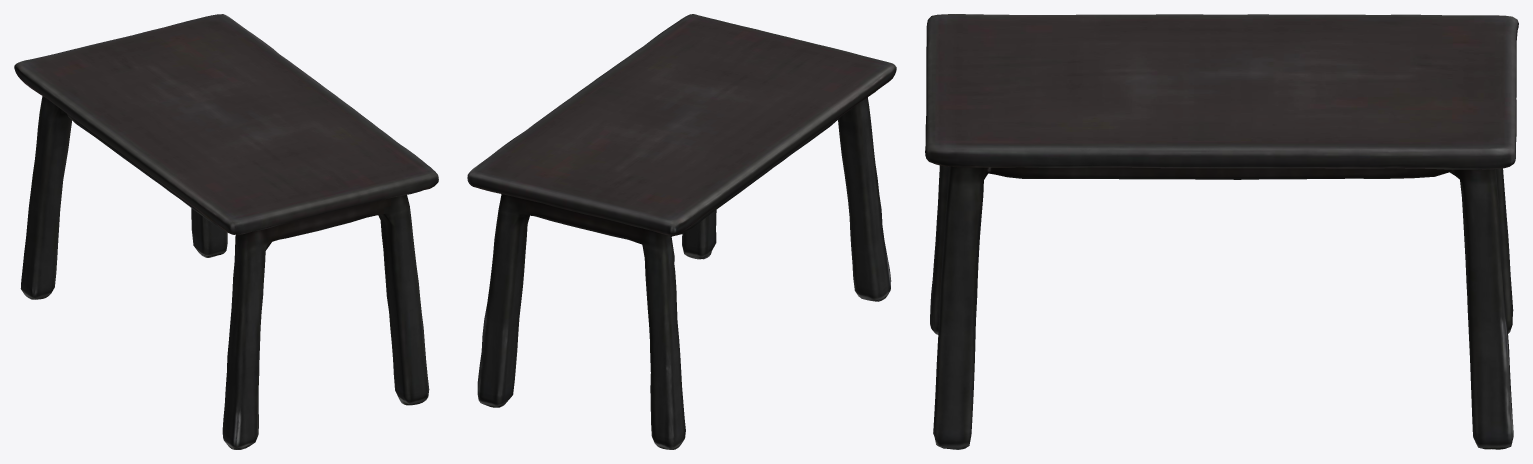
File: table.fbx
The picture shows the model from 3 angles, left to right: view 1: azimuth 30°, elevation 25°; view 2: azimuth 150°, elevation 25°; view 3: azimuth 270°, elevation 25°; orthographic projection. The views are drawn at different scales.
Parts seen in each view (by area): view 1: mesh; view 2: mesh; view 3: mesh.
Boxes of the visible parts, x1,y1,x2,y2 form: mesh: [14, 14, 438, 449]; mesh: [467, 14, 896, 449]; mesh: [925, 14, 1518, 449].
Bounding box in the file's own units: 55.27 × 58.17 × 99.66.
